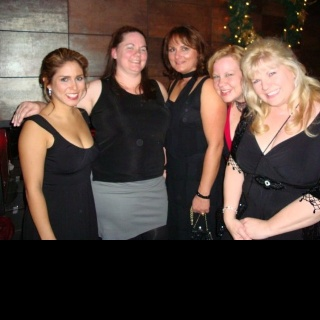without_mask: (250, 57, 295, 106), (211, 56, 244, 103), (51, 61, 85, 106), (116, 31, 148, 72), (168, 36, 199, 73)
